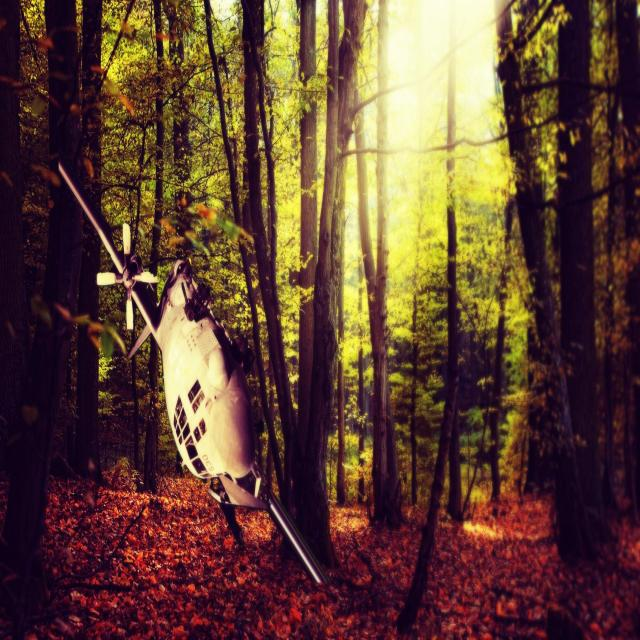airplane: (57, 155, 332, 588)
